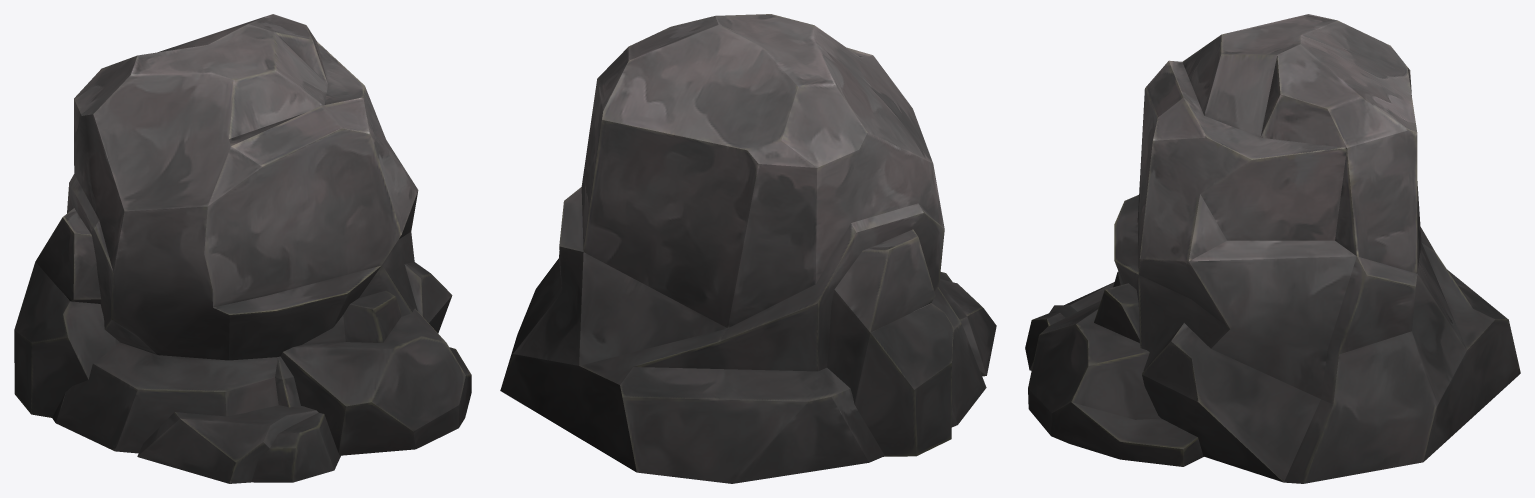
File: SM_Rock_large.01.fbx
The picture shows the model from 3 angles, left to right: view 1: azimuth 30°, elevation 25°; view 2: azimuth 150°, elevation 25°; view 3: azimuth 270°, elevation 25°; orthographic projection. The views are drawn at different scales.
Parts seen in each view (by area): view 1: SM_Rock_large.01; view 2: SM_Rock_large.01; view 3: SM_Rock_large.01.
Part boxes in pixels (box(x1,y1,x2,y2)): SM_Rock_large.01: box(14, 14, 471, 483); SM_Rock_large.01: box(500, 14, 996, 483); SM_Rock_large.01: box(1025, 14, 1520, 483).
Size of the model in its own units: 8.03 by 6.41 by 8.26.
